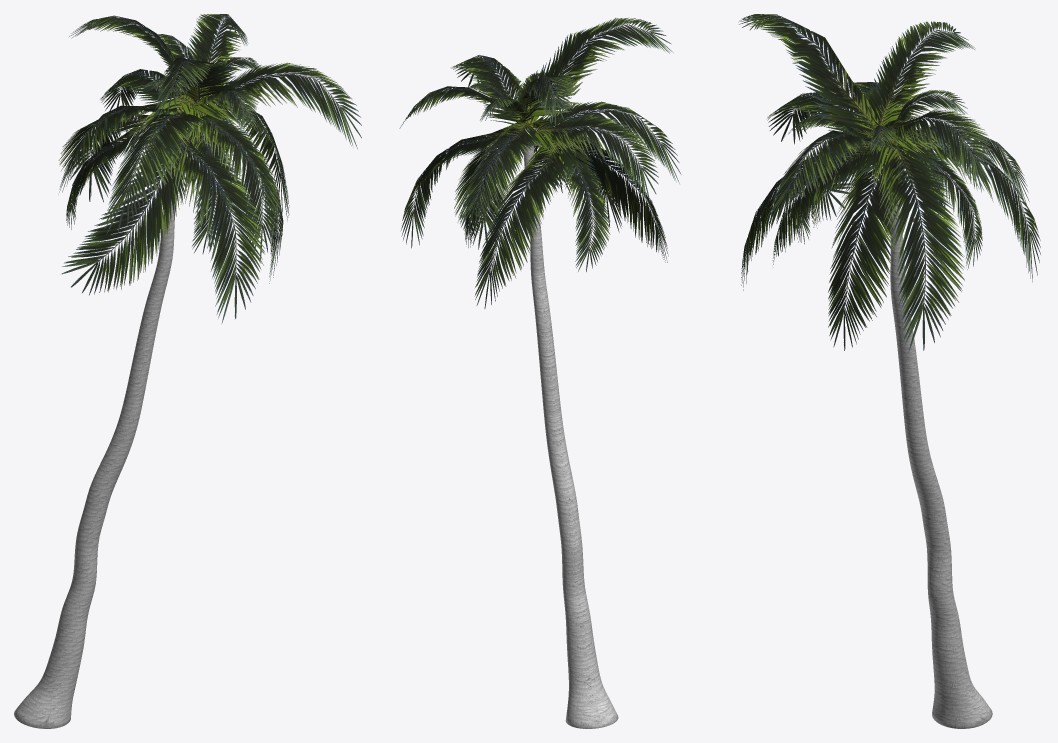
The model's file is palm.obj.
3 views of the same model, side by side, from view 1: azimuth 30°, elevation 25°; view 2: azimuth 150°, elevation 25°; view 3: azimuth 270°, elevation 25° (orthographic). The views are drawn at different scales.
Visible parts, largest first — view 1: Cylinder.002_Material.004, Cylinder.002_Material.002; view 2: Cylinder.002_Material.004, Cylinder.002_Material.002; view 3: Cylinder.002_Material.004, Cylinder.002_Material.002.
Part boxes in pixels (x1,y1,x2,y2): Cylinder.002_Material.004: [58, 14, 361, 323]; Cylinder.002_Material.002: [14, 108, 183, 728]; Cylinder.002_Material.004: [399, 17, 681, 308]; Cylinder.002_Material.002: [523, 127, 618, 728]; Cylinder.002_Material.004: [738, 14, 1040, 352]; Cylinder.002_Material.002: [888, 198, 992, 728].
Size of the model in its own units: 2.79 by 6.34 by 2.61.
